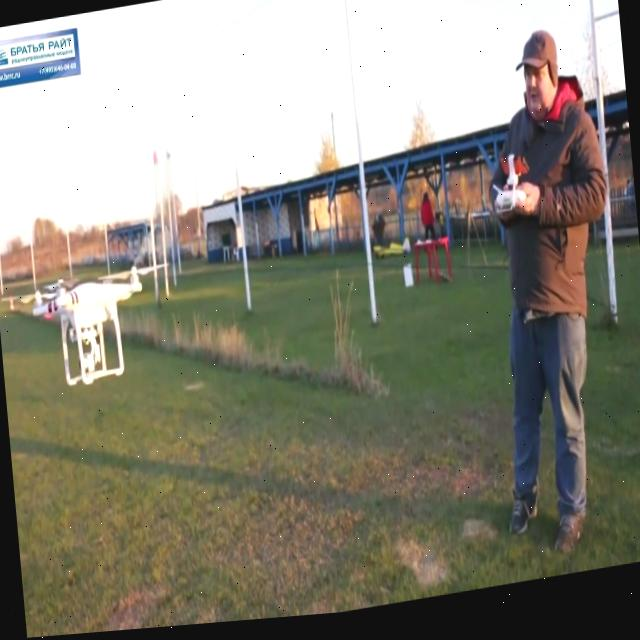drone: (17, 260, 166, 398)
